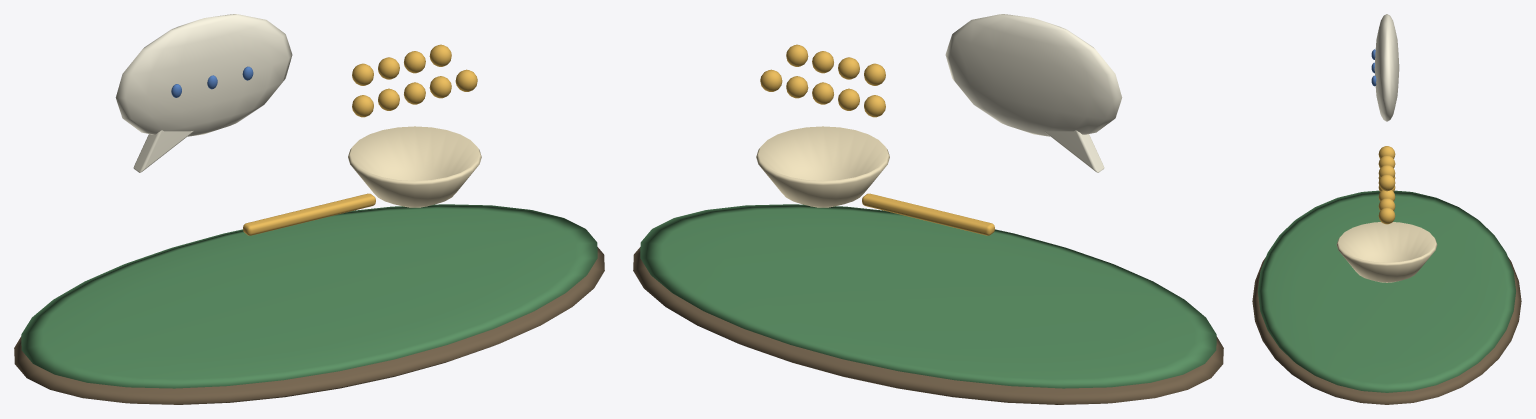
The model's file is complete-second-sentence-many-enough.glb.
3 renders of one model, left to right at view 1: azimuth 30°, elevation 25°; view 2: azimuth 150°, elevation 25°; view 3: azimuth 270°, elevation 25°, orthographic. The views are drawn at different scales.
Visible parts, largest first — view 1: complete-second-sentence-many-enough_surface_01, complete-second-sentence-many-enough_surface_02, complete-second-sentence-many-enough_surface_00, complete-second-sentence-many-enough_surface_05, complete-second-sentence-many-enough_surface_04; view 2: complete-second-sentence-many-enough_surface_01, complete-second-sentence-many-enough_surface_02, complete-second-sentence-many-enough_surface_00, complete-second-sentence-many-enough_surface_05, complete-second-sentence-many-enough_surface_04; view 3: complete-second-sentence-many-enough_surface_01, complete-second-sentence-many-enough_surface_05, complete-second-sentence-many-enough_surface_00, complete-second-sentence-many-enough_surface_02, complete-second-sentence-many-enough_surface_04.
Part boxes in pixels (box(x1,y1,x2,y2)): complete-second-sentence-many-enough_surface_01: box(21, 204, 597, 388); complete-second-sentence-many-enough_surface_02: box(115, 14, 292, 172); complete-second-sentence-many-enough_surface_00: box(14, 247, 604, 404); complete-second-sentence-many-enough_surface_05: box(348, 126, 481, 207); complete-second-sentence-many-enough_surface_04: box(243, 44, 477, 235); complete-second-sentence-many-enough_surface_01: box(640, 204, 1216, 388); complete-second-sentence-many-enough_surface_02: box(945, 14, 1122, 172); complete-second-sentence-many-enough_surface_00: box(633, 247, 1223, 404); complete-second-sentence-many-enough_surface_05: box(756, 126, 889, 207); complete-second-sentence-many-enough_surface_04: box(760, 44, 994, 235); complete-second-sentence-many-enough_surface_01: box(1258, 190, 1515, 392); complete-second-sentence-many-enough_surface_05: box(1336, 222, 1437, 282); complete-second-sentence-many-enough_surface_00: box(1252, 257, 1521, 404); complete-second-sentence-many-enough_surface_02: box(1374, 14, 1399, 121); complete-second-sentence-many-enough_surface_04: box(1378, 146, 1395, 224).
Size of the model in its own units: 4.56 by 2.57 by 2.5.
